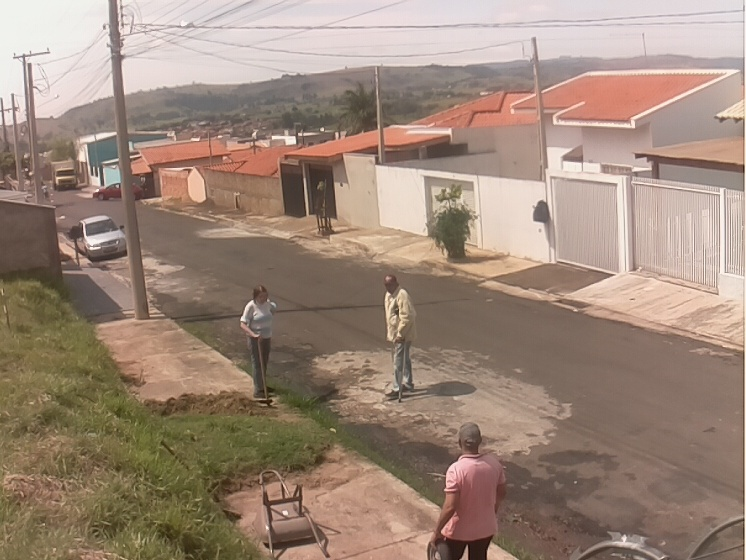person: (430, 421, 507, 560), (239, 285, 280, 397), (383, 273, 418, 398)
